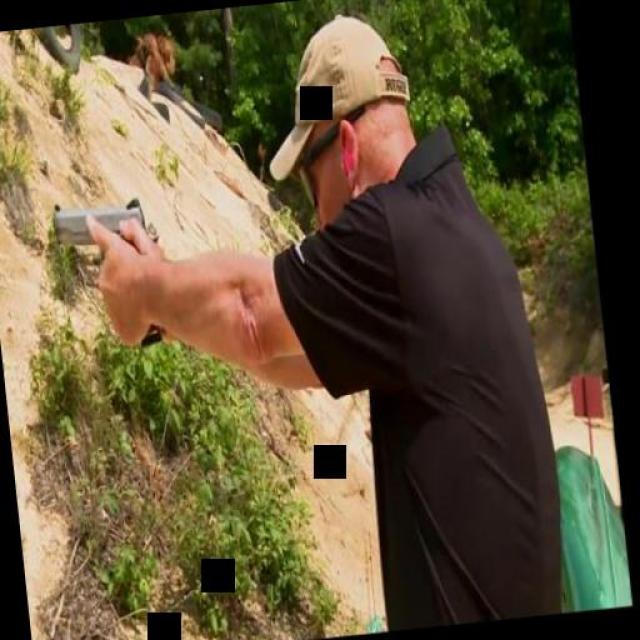gun: (48, 196, 168, 358)
